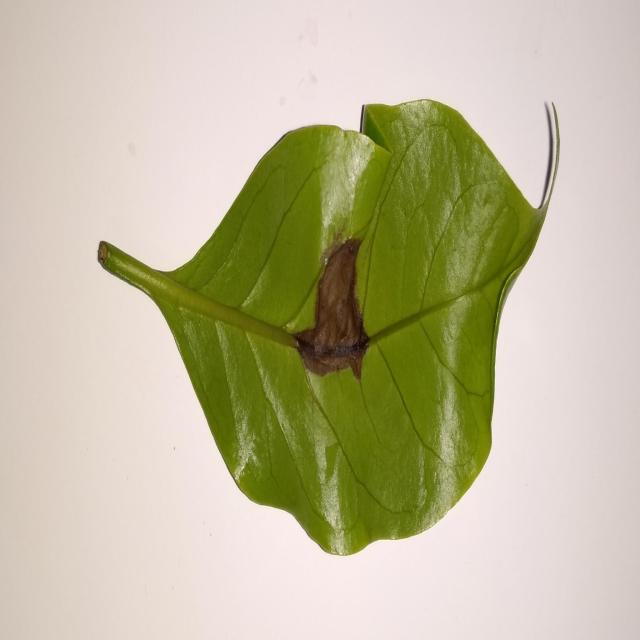Enfermedad-Antracnosis: (96, 99, 561, 559)
